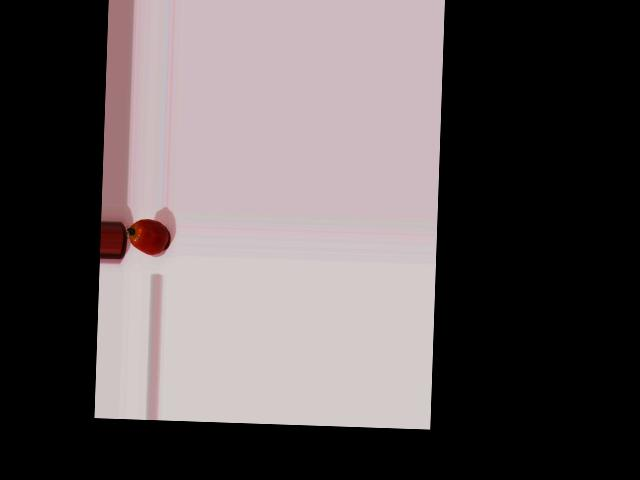tomato: (128, 219, 168, 255)
